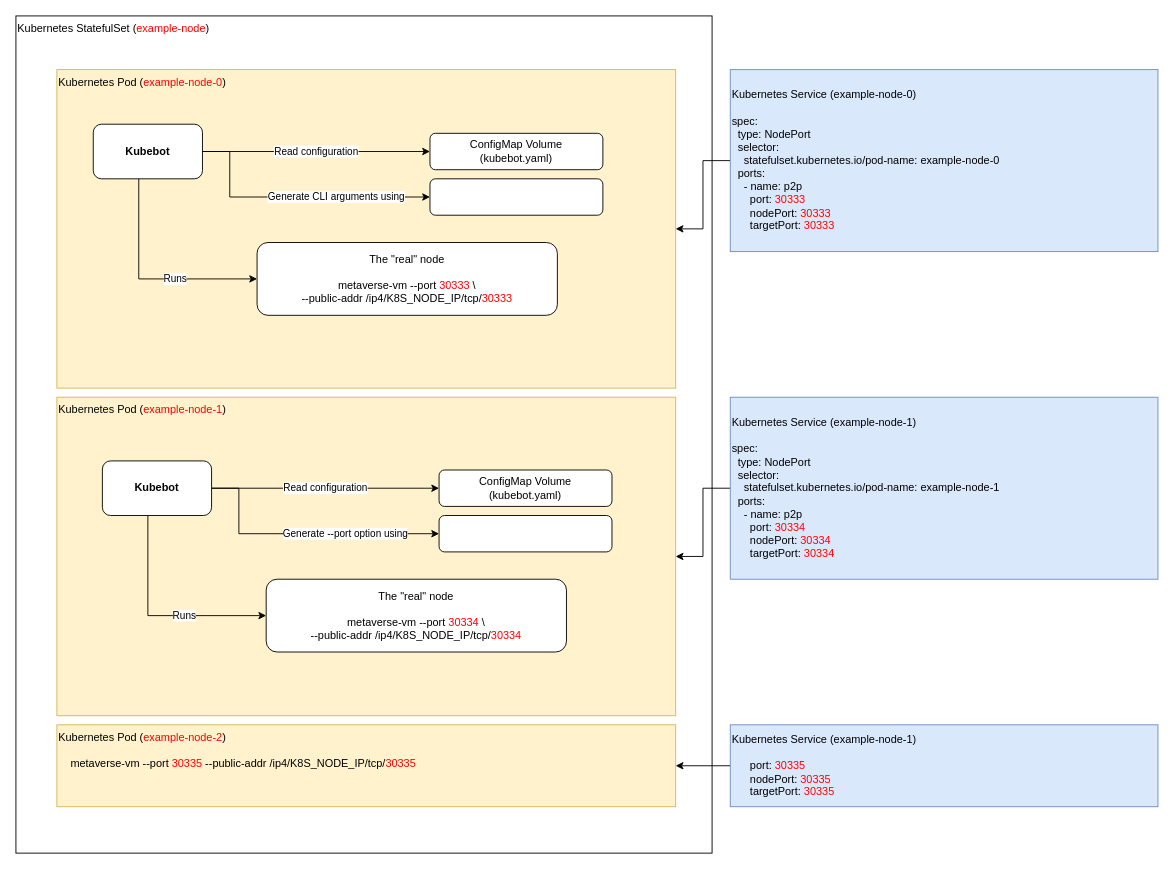
Image size: 1174x869. Some labels were removed from this diagram. The centre of each missing label's shape, as x and y in pixels:
Env var "$HOSTNAME" ( example-node-0 ): point (516, 196)
Env var "$HOSTNAME" ( example-node-1 ): point (525, 533)
